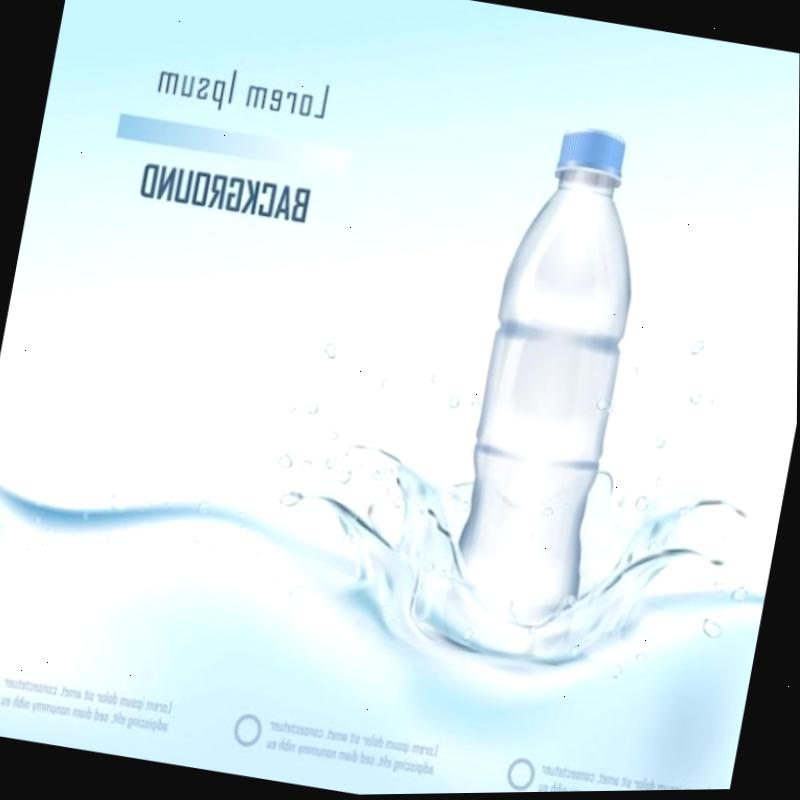botella: (437, 115, 661, 633)
